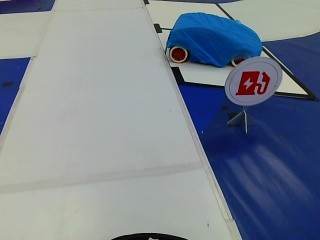battery: (230, 61, 272, 97)
car: (164, 9, 261, 68)
